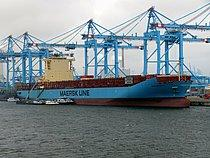Ship: (14, 48, 196, 111)
